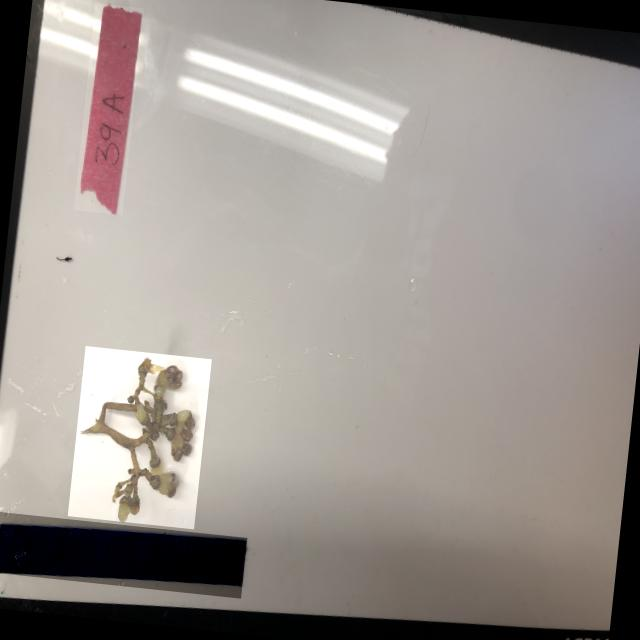index: (74, 1, 144, 213)
measure_label: (0, 510, 247, 597)
rachis_cluster: (67, 345, 212, 528)
